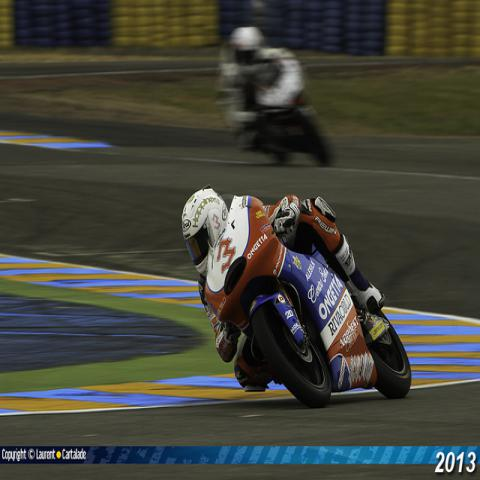motorcycle: (211, 195, 411, 401), (234, 43, 340, 168)
